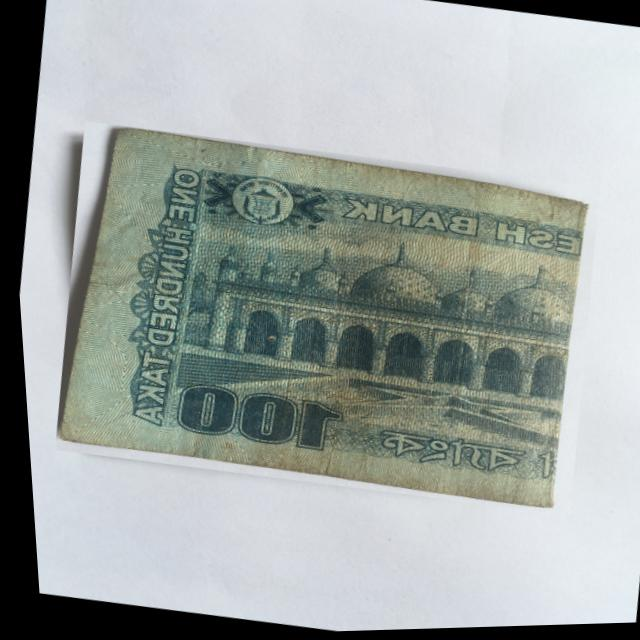Taka: (31, 110, 614, 531)
